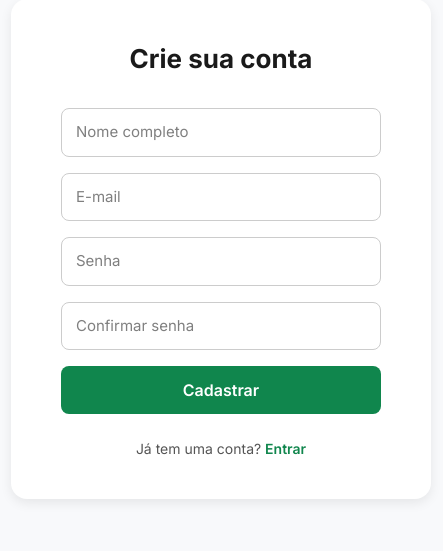
it: Página de Cadastro › deve validar senha curta
Preenche campos obrigatórios
Type "Teste" into the field with placeholder "Nome completo" at (221, 132), box 61,108 -> 381,156
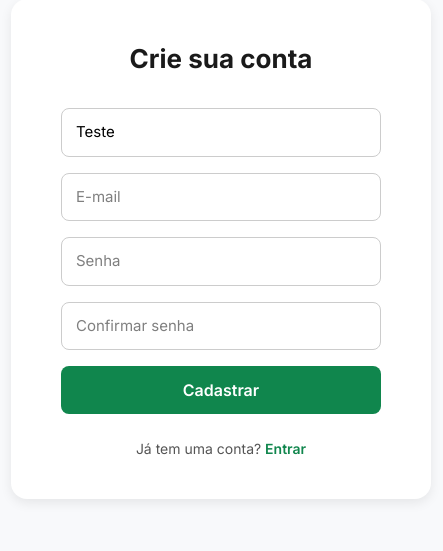
Type "t@t.com" into the field with placeholder "E-mail" at (221, 197), box 61,172 -> 381,221
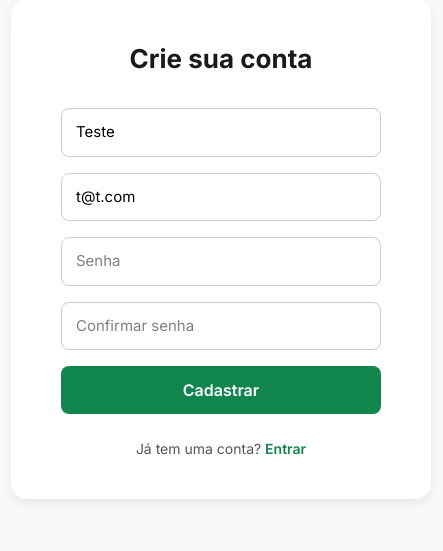
Senha curta
Type "123" into the password field with placeholder "Senha" at (221, 261), box 61,237 -> 381,286
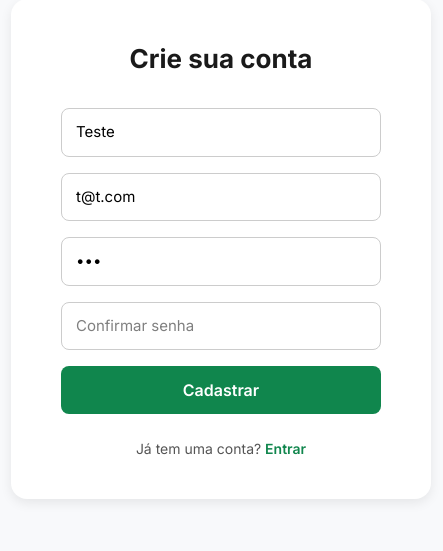
Type "123" into the password field with placeholder "Confirmar senha" at (221, 326), box 61,302 -> 381,350
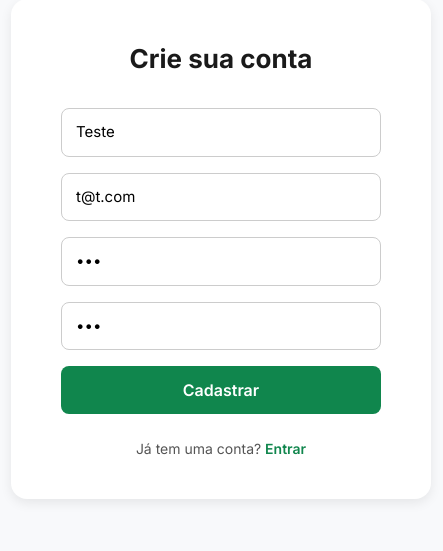
Click the button "Cadastrar" at (221, 390), box 61,366 -> 381,414
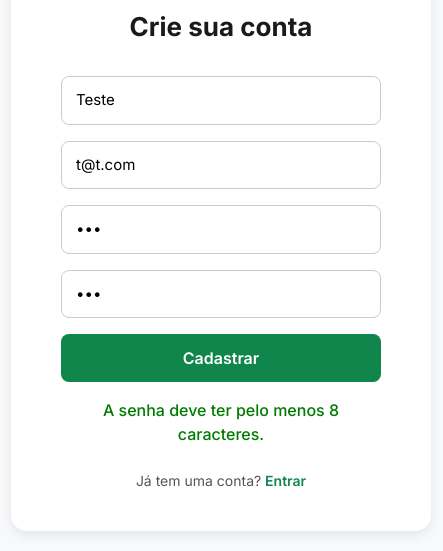
Check: the text "A senha deve ter pelo menos 8 caracteres." is shown, box 103,400 -> 339,444
